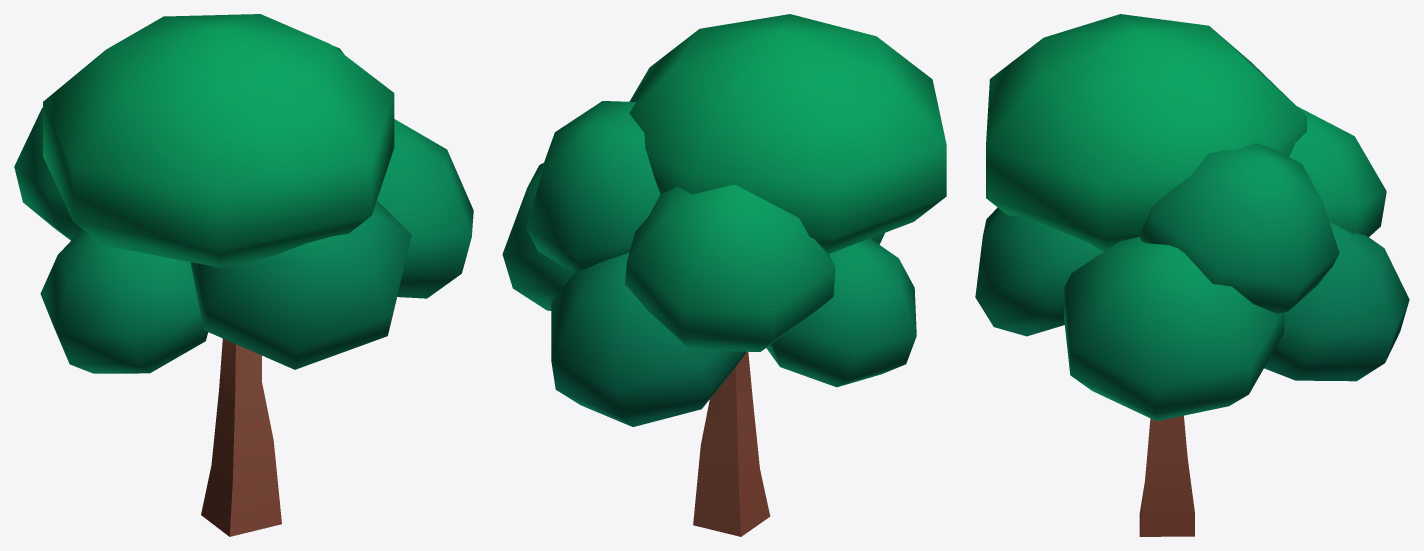
File: tree_A.glb
3 renders of one model, left to right at view 1: azimuth 30°, elevation 25°; view 2: azimuth 150°, elevation 25°; view 3: azimuth 270°, elevation 25°, orthographic. The views are drawn at different scales.
Parts seen in each view (by area): view 1: tree_A; view 2: tree_A; view 3: tree_A.
Part boxes in pixels (bbox=[...]): tree_A: bbox=[14, 14, 473, 536]; tree_A: bbox=[502, 14, 946, 536]; tree_A: bbox=[975, 14, 1409, 536].
Bounding box in the file's own units: 1.03 × 1.18 × 0.9794.
1 material, 1 textured.
